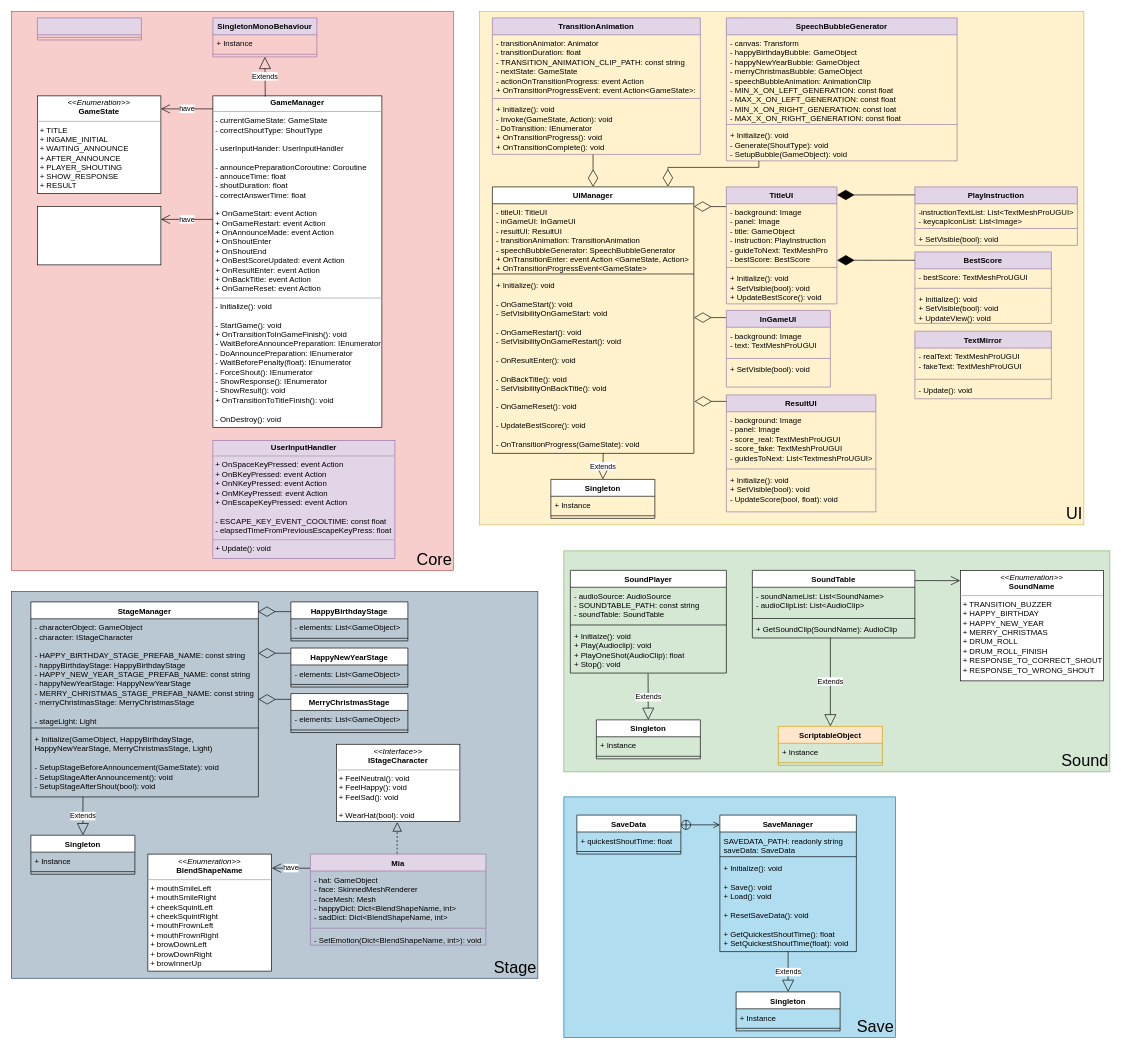
This 1121x1049 diagram has some shape labels left out. Here are the shapes that lost their labels. From the top down, the centre of each, then its label:
At [89,28]: "MonoBehaviour".
At [99,235]: "<<Enumeration>> ShoutType + HAPPY_BIRTHDAY + HAPPY_NEW_YEAR + MERRY_CHRISTMAS".
